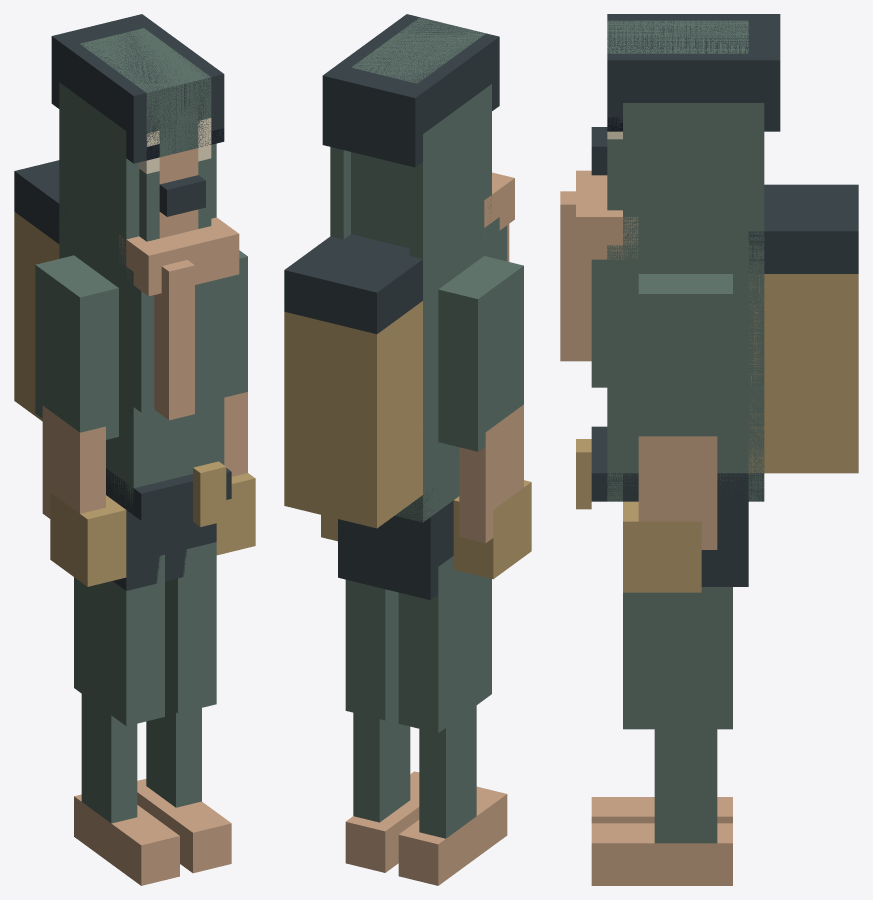
Rendered from wayfarer_organic.glb.
3 renders of one model, left to right at view 1: azimuth 30°, elevation 25°; view 2: azimuth 150°, elevation 25°; view 3: azimuth 270°, elevation 25°, orthographic. The views are drawn at different scales.
Visible parts, largest first — view 1: wayfarer_organic/arm_-1, wayfarer_organic/leg_-1, wayfarer_organic/hood, wayfarer_organic/torso, wayfarer_organic/leg_1, wayfarer_organic/head, wayfarer_organic/scarf, wayfarer_organic/backpack, wayfarer_organic/arm_1, wayfarer_organic/pelvis, wayfarer_organic/belt; view 2: wayfarer_organic/backpack, wayfarer_organic/hood, wayfarer_organic/leg_-1, wayfarer_organic/arm_-1, wayfarer_organic/leg_1, wayfarer_organic/head, wayfarer_organic/pelvis, wayfarer_organic/torso, wayfarer_organic/scarf; view 3: wayfarer_organic/hood, wayfarer_organic/leg_1, wayfarer_organic/arm_1, wayfarer_organic/backpack, wayfarer_organic/torso, wayfarer_organic/scarf, wayfarer_organic/head, wayfarer_organic/pelvis, wayfarer_organic/belt, wayfarer_organic/leg_-1.
Part boxes in pixels (bbox=[...]): wayfarer_organic/arm_-1: bbox=[35, 255, 126, 586]; wayfarer_organic/leg_-1: bbox=[74, 554, 179, 885]; wayfarer_organic/hood: bbox=[51, 14, 224, 277]; wayfarer_organic/torso: bbox=[59, 217, 231, 511]; wayfarer_organic/leg_1: bbox=[137, 542, 231, 873]; wayfarer_organic/head: bbox=[80, 28, 224, 241]; wayfarer_organic/scarf: bbox=[119, 217, 239, 420]; wayfarer_organic/backpack: bbox=[14, 160, 65, 421]; wayfarer_organic/arm_1: bbox=[216, 250, 255, 555]; wayfarer_organic/pelvis: bbox=[106, 468, 216, 590]; wayfarer_organic/belt: bbox=[106, 461, 231, 526]; wayfarer_organic/backpack: bbox=[284, 234, 422, 528]; wayfarer_organic/hood: bbox=[322, 14, 499, 284]; wayfarer_organic/leg_-1: bbox=[398, 556, 507, 885]; wayfarer_organic/arm_-1: bbox=[438, 256, 531, 579]; wayfarer_organic/leg_1: bbox=[345, 579, 419, 872]; wayfarer_organic/head: bbox=[351, 17, 485, 248]; wayfarer_organic/pelvis: bbox=[338, 500, 453, 600]; wayfarer_organic/torso: bbox=[395, 217, 507, 522]; wayfarer_organic/scarf: bbox=[484, 172, 514, 261]; wayfarer_organic/hood: bbox=[607, 14, 780, 259]; wayfarer_organic/leg_1: bbox=[591, 587, 732, 885]; wayfarer_organic/arm_1: bbox=[623, 274, 732, 592]; wayfarer_organic/backpack: bbox=[748, 184, 858, 473]; wayfarer_organic/torso: bbox=[591, 245, 764, 501]; wayfarer_organic/scarf: bbox=[560, 170, 638, 361]; wayfarer_organic/head: bbox=[591, 20, 748, 210]; wayfarer_organic/pelvis: bbox=[623, 473, 748, 586]; wayfarer_organic/belt: bbox=[576, 426, 764, 509]; wayfarer_organic/leg_-1: bbox=[591, 797, 732, 823].
Bounding box in the file's own units: 0.4062 × 1.81 × 0.5938.
